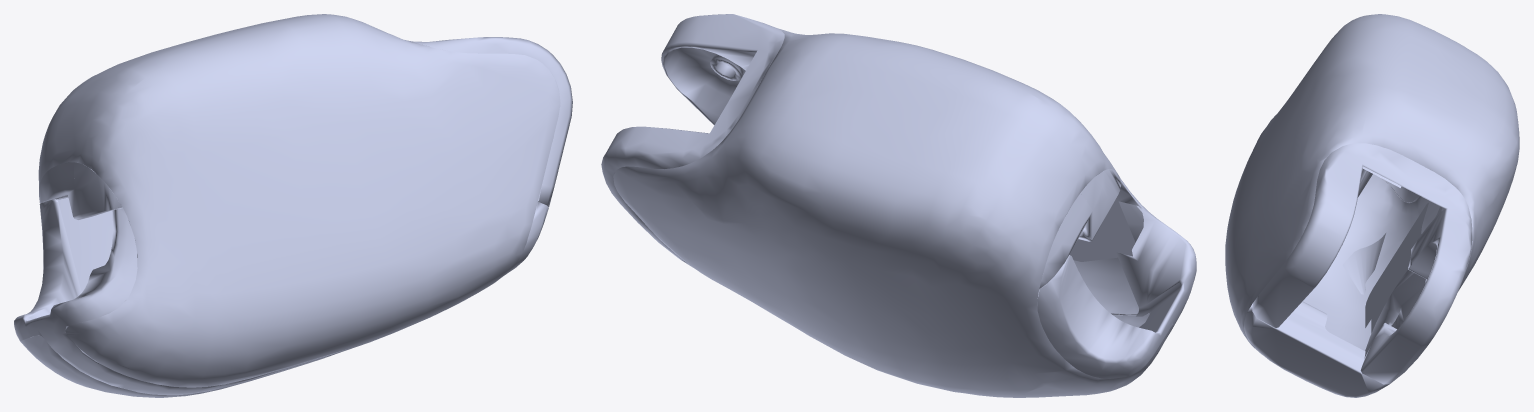
The model's file is left_thumb_MC_visual_cad1ee.glb.
The picture shows the model from 3 angles, left to right: view 1: azimuth 30°, elevation 25°; view 2: azimuth 150°, elevation 25°; view 3: azimuth 270°, elevation 25°; orthographic projection. The views are drawn at different scales.
Parts seen in each view (by area): view 1: left_thumb_MC_visual_0; view 2: left_thumb_MC_visual_0; view 3: left_thumb_MC_visual_0.
Boxes of the visible parts, x1,y1,x2,y2 form: left_thumb_MC_visual_0: (14, 14, 572, 397); left_thumb_MC_visual_0: (601, 14, 1196, 397); left_thumb_MC_visual_0: (1225, 14, 1519, 397).
Bounding box in the file's own units: 0.0673 × 0.0407 × 0.0367.
